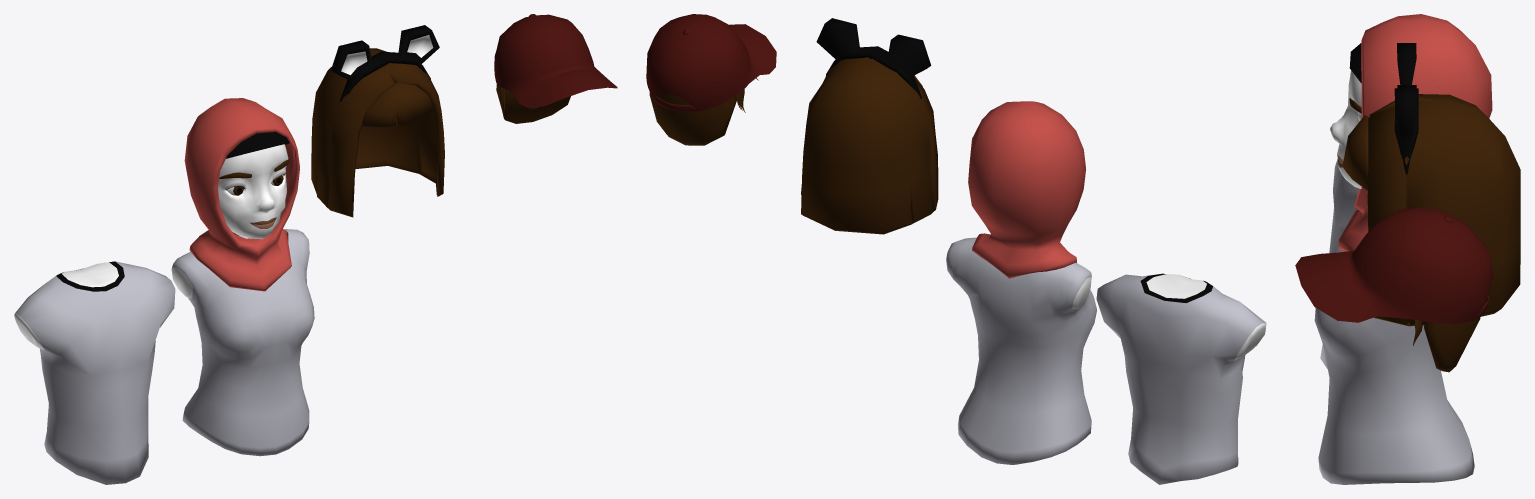
Rendered from Avatars.fbx.
3 views of the same model, side by side, from view 1: azimuth 30°, elevation 25°; view 2: azimuth 150°, elevation 25°; view 3: azimuth 270°, elevation 25° (orthographic). The views are drawn at different scales.
Parts seen in each view (by area): view 1: Male Torso, Female Torso, Hair1, Hijab, Hat1, Head, Headband, Hair2; view 2: Male Torso, Female Torso, Hair1, Hijab, Hat1, Headband, Hair2; view 3: Female Torso, Hair1, Hat1, Hijab, Headband, Hair2, Male Torso, Head.
Part boxes in pixels (x1=…): Male Torso: x1=14, y1=261, x2=175, y2=484; Female Torso: x1=171, y1=229, x2=314, y2=456; Hair1: x1=311, y1=48, x2=444, y2=217; Hijab: x1=184, y1=98, x2=299, y2=291; Hat1: x1=494, y1=14, x2=617, y2=108; Head: x1=218, y1=144, x2=289, y2=239; Headband: x1=331, y1=25, x2=439, y2=101; Hair2: x1=496, y1=84, x2=570, y2=123; Male Torso: x1=1096, y1=273, x2=1266, y2=484; Female Torso: x1=946, y1=237, x2=1096, y2=464; Hair1: x1=801, y1=57, x2=938, y2=234; Hijab: x1=968, y1=101, x2=1085, y2=278; Hat1: x1=646, y1=14, x2=776, y2=111; Headband: x1=816, y1=18, x2=931, y2=98; Hair2: x1=649, y1=78, x2=758, y2=145; Female Torso: x1=1314, y1=246, x2=1474, y2=484; Hair1: x1=1342, y1=94, x2=1520, y2=326; Hat1: x1=1295, y1=207, x2=1493, y2=324; Hijab: x1=1338, y1=14, x2=1492, y2=251; Headband: x1=1394, y1=43, x2=1418, y2=175; Hair2: x1=1413, y1=317, x2=1480, y2=372; Male Torso: x1=1320, y1=158, x2=1359, y2=368; Head: x1=1330, y1=70, x2=1361, y2=188.
Bounding box in the file's own units: 11332 × 6759 × 2804.
